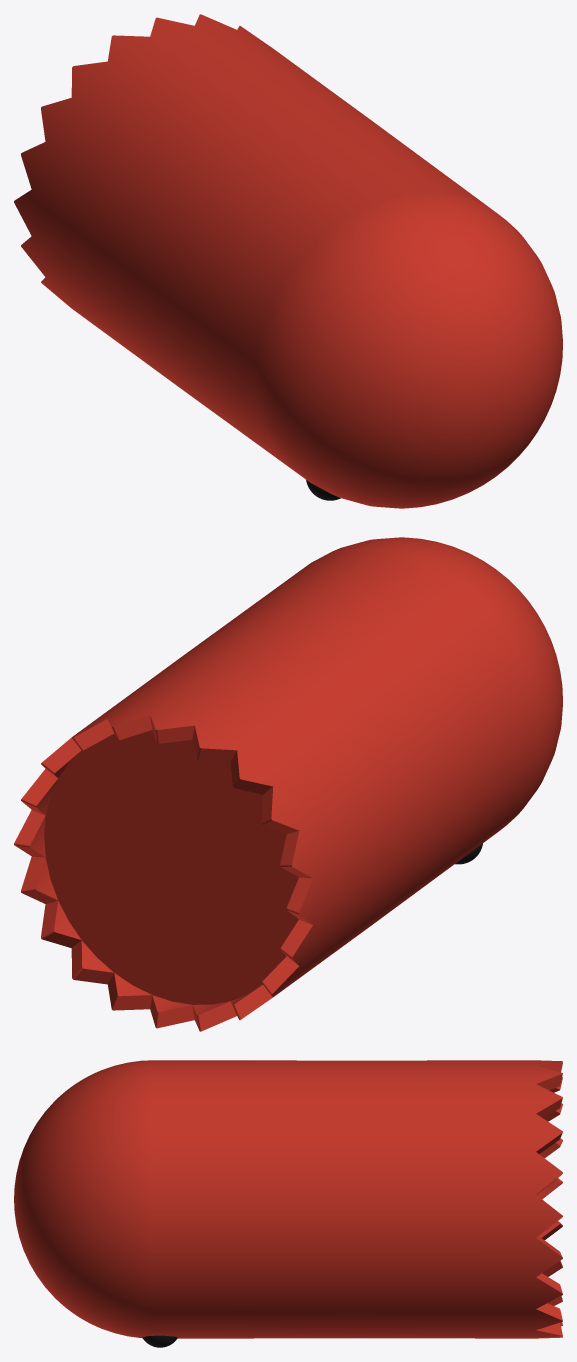
The model's file is Ghost red.fbx.
3 views of the same model, one above another, from view 1: azimuth 30°, elevation 25°; view 2: azimuth 150°, elevation 25°; view 3: azimuth 270°, elevation 25° (orthographic). The views are drawn at different scales.
Visible parts, largest first — view 1: Body4; view 2: Body4; view 3: Body4.
Part boxes in pixels (box(x1,y1,x2,y2)): Body4: box(14, 14, 562, 508); Body4: box(14, 537, 562, 1031); Body4: box(14, 1060, 562, 1338).
Size of the model in its own units: 200 by 200 by 394.
